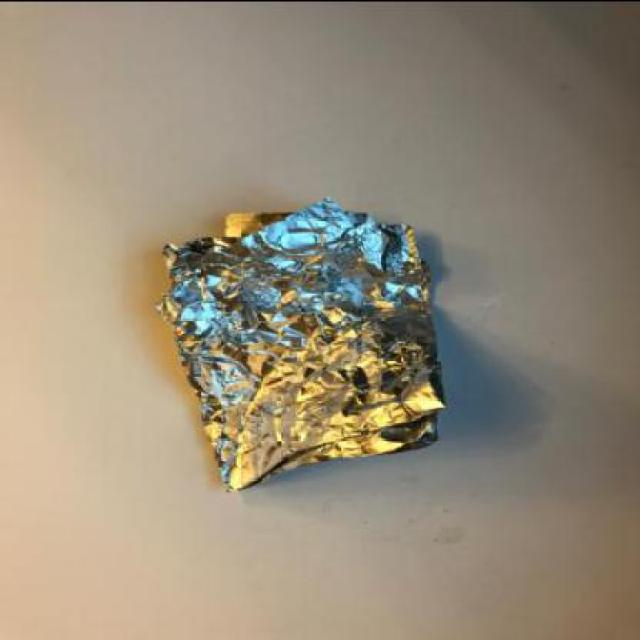METAL: (153, 198, 449, 492)
